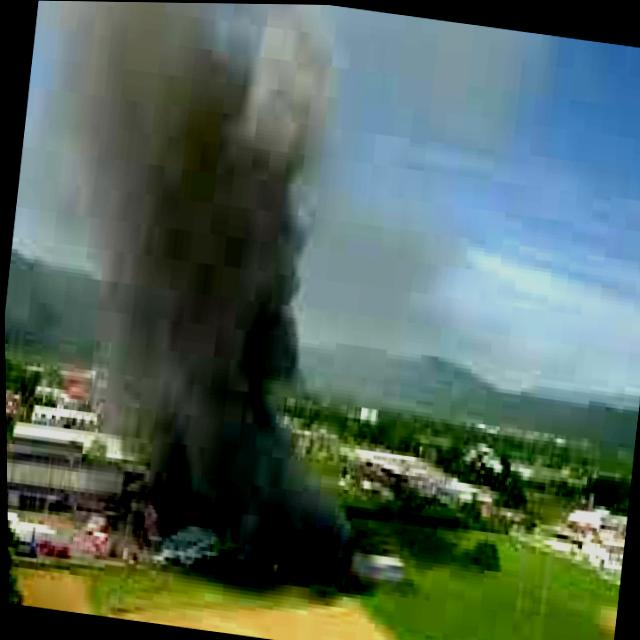Smoke: (0, 0, 437, 598)
